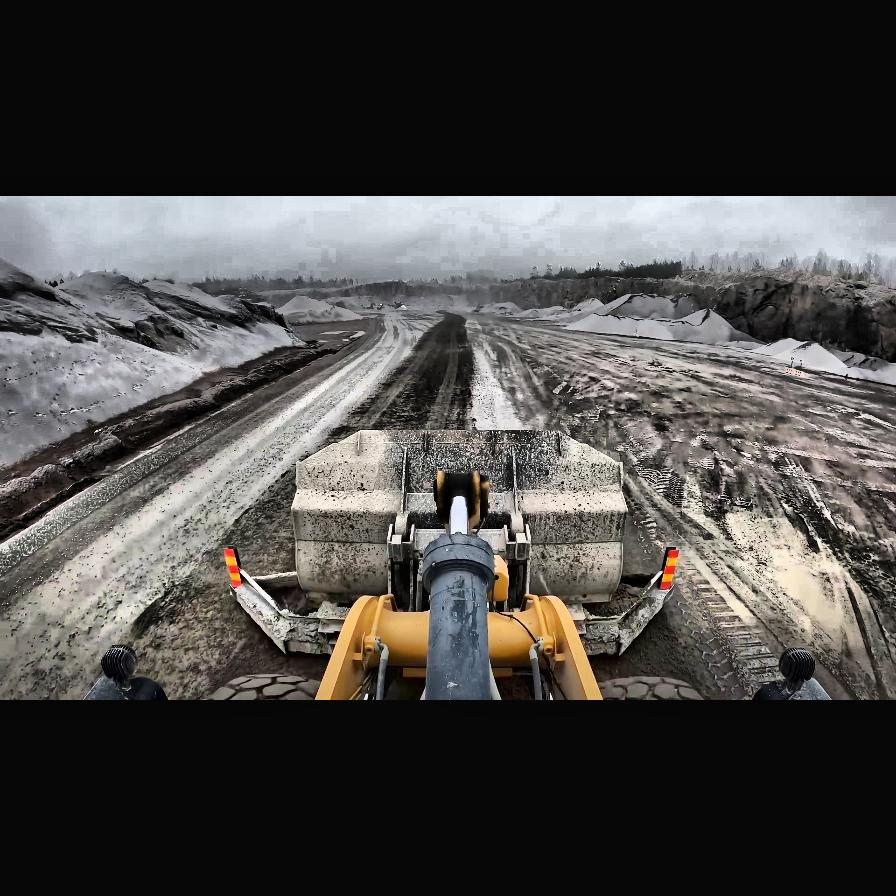anchor: (434, 470, 490, 532)
pile of gravel: (1, 248, 309, 472), (126, 278, 298, 356), (566, 308, 768, 346), (340, 304, 444, 348), (57, 270, 148, 308), (106, 311, 188, 353), (761, 341, 854, 375), (1, 249, 61, 299), (586, 293, 690, 321), (829, 348, 895, 386), (276, 295, 364, 323), (565, 312, 647, 336), (473, 302, 521, 314), (569, 297, 605, 313), (523, 306, 563, 318), (548, 310, 584, 322), (326, 298, 350, 308), (394, 304, 408, 310)
